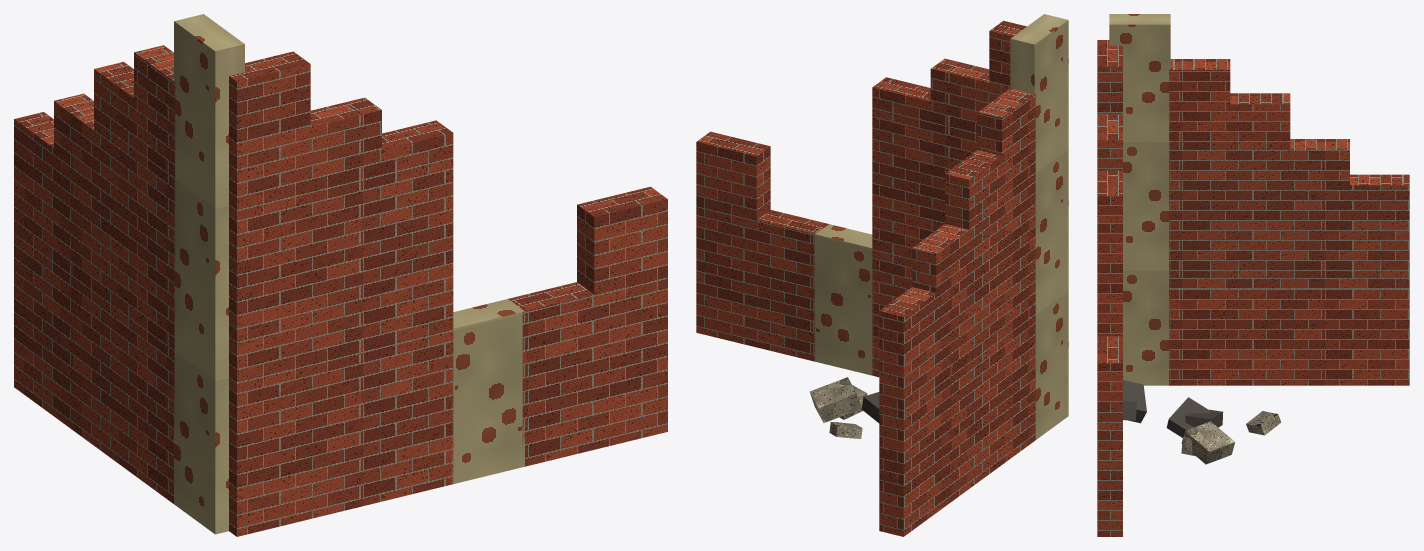
File: wall_corner_tall.glb
3 views of the same model, side by side, from view 1: azimuth 30°, elevation 25°; view 2: azimuth 150°, elevation 25°; view 3: azimuth 270°, elevation 25° (orthographic). The views are drawn at different scales.
Visible parts, largest first — view 1: wall_corner_tall-col; view 2: wall_corner_tall-col; view 3: wall_corner_tall-col.
Part boxes in pixels (x1,y1,x2,y2): wall_corner_tall-col: (14,14,667,536); wall_corner_tall-col: (696,14,1068,536); wall_corner_tall-col: (1097,14,1409,536).
Size of the model in its own units: 2.7 by 2.83 by 2.2.
4 materials, 3 textured.
